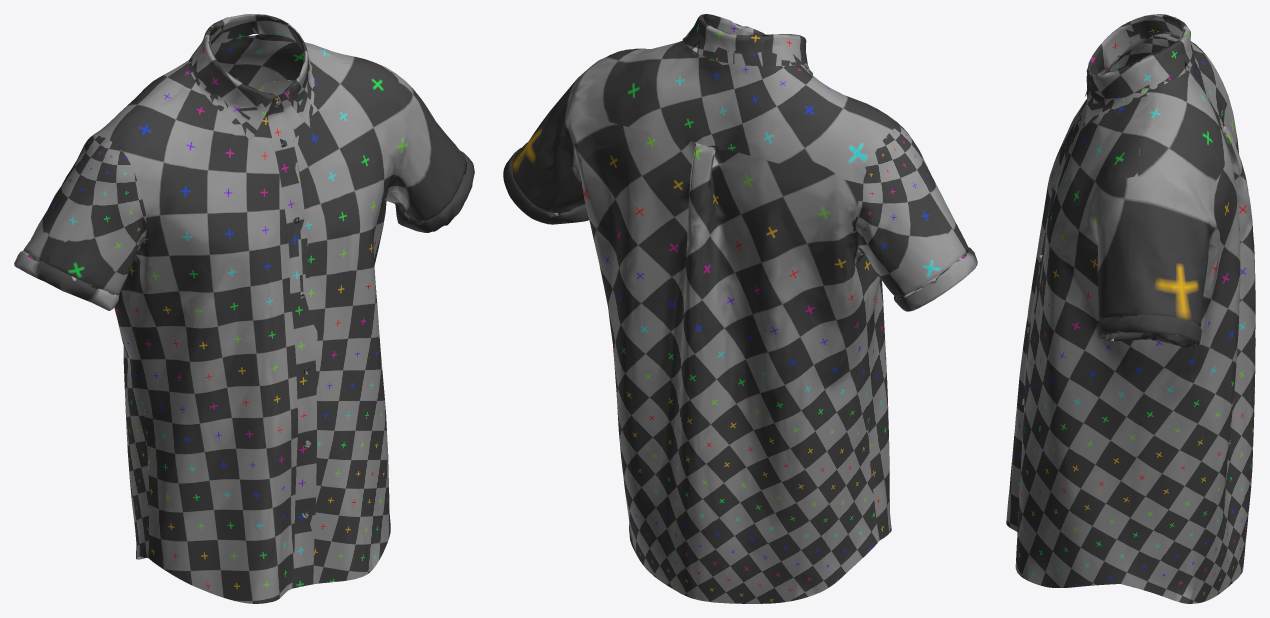
File: tshirt.glb
3 renders of one model, left to right at view 1: azimuth 30°, elevation 25°; view 2: azimuth 150°, elevation 25°; view 3: azimuth 270°, elevation 25°, orthographic. The views are drawn at different scales.
Visible parts, largest first — view 1: program_main; view 2: program_main; view 3: program_main.
Boxes of the visible parts, bbox=[...] form: program_main: bbox=[14, 14, 474, 603]; program_main: bbox=[503, 14, 977, 603]; program_main: bbox=[1006, 14, 1255, 603].
Bounding box in the file's own units: 0.8281 × 0.9386 × 0.394.
Materials: 1 (1 with a texture image).
